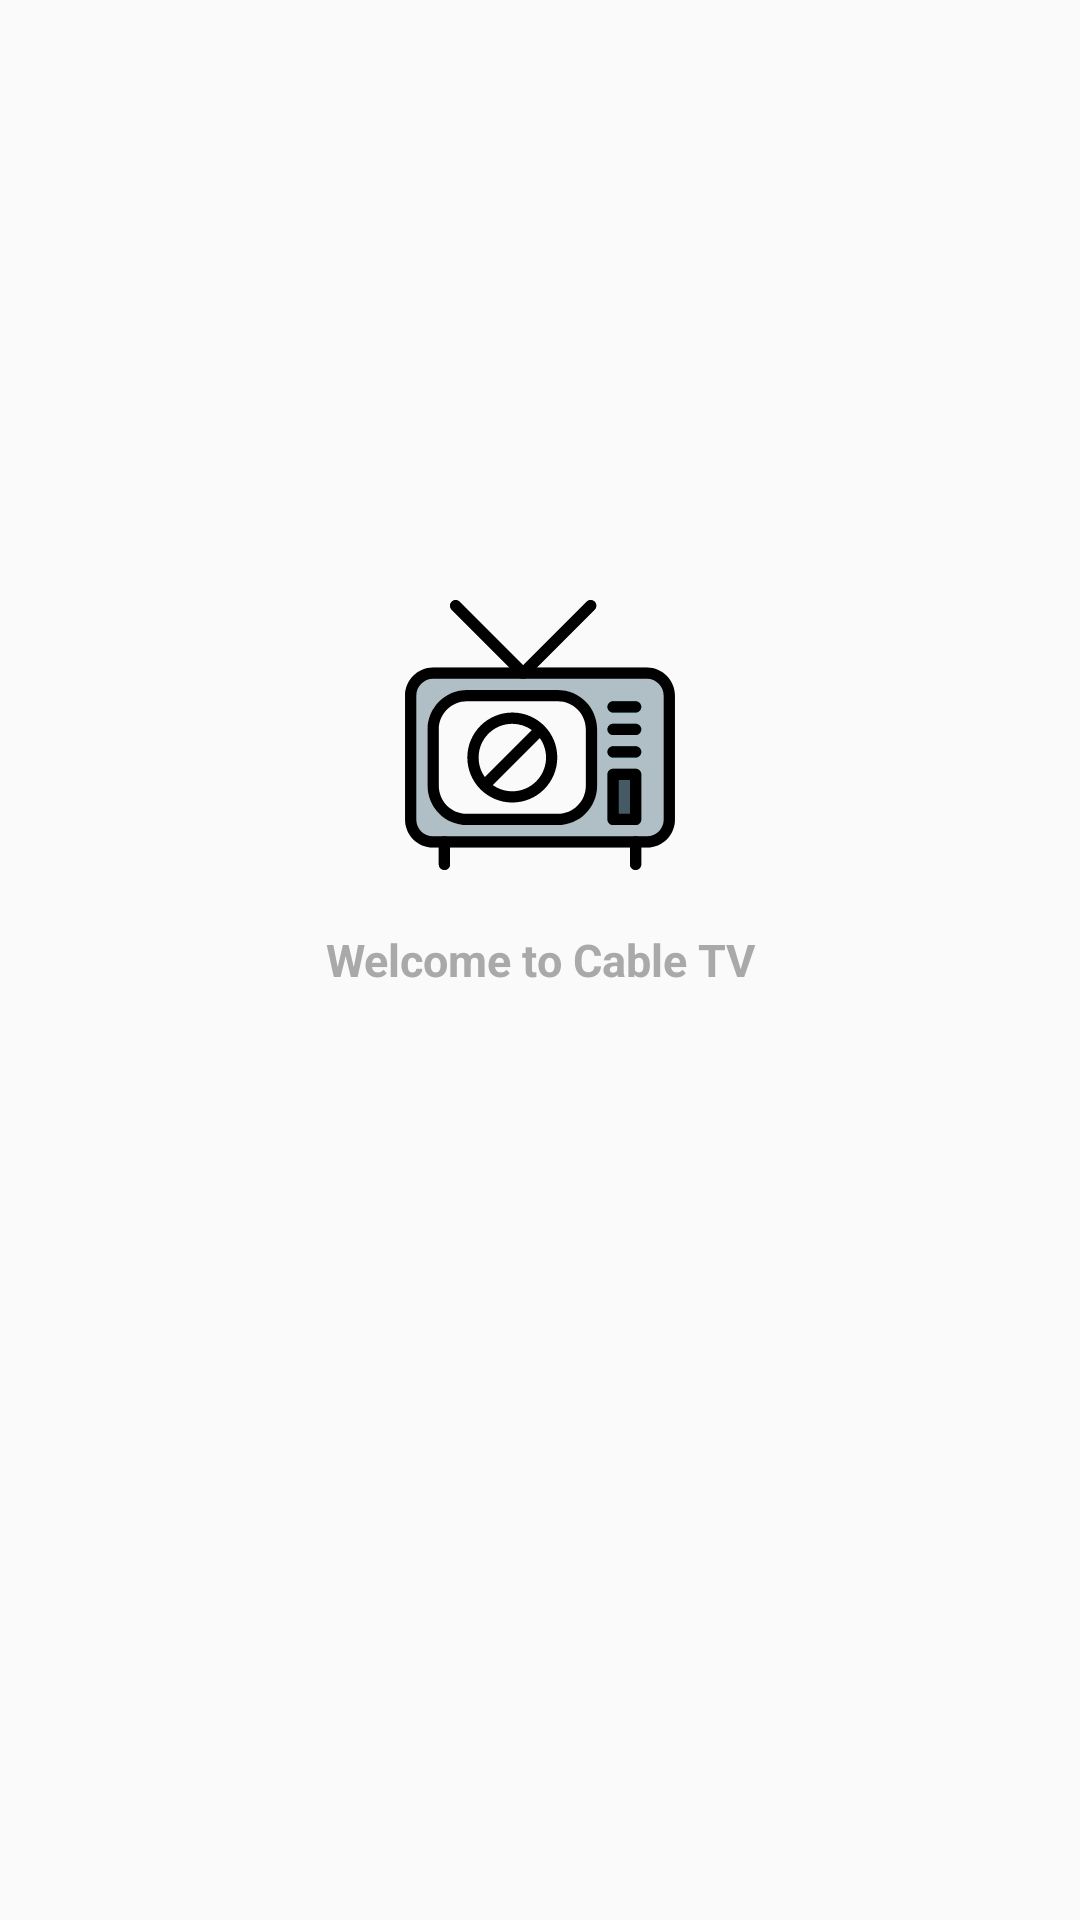

Screen size 1080px×1920px. Icon name, then its box in pixels as region(x1, y1, x2, y2):
television: region(405, 600, 675, 870)
